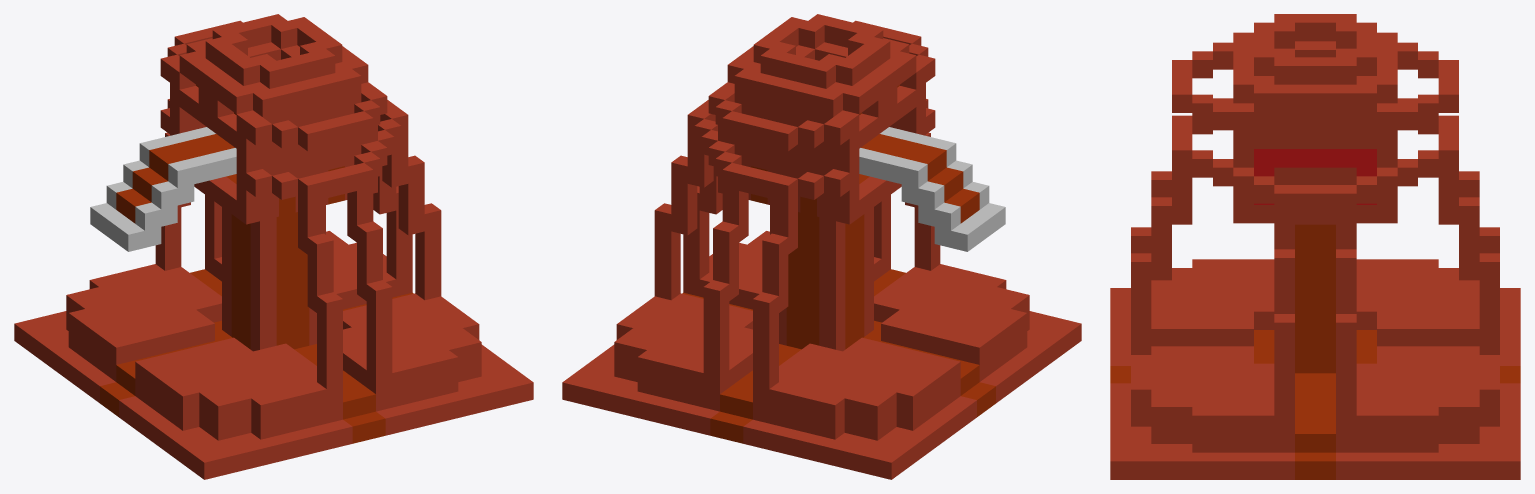
File: wood1_hid.fbx
3 views of the same model, side by side, from view 1: azimuth 30°, elevation 25°; view 2: azimuth 150°, elevation 25°; view 3: azimuth 270°, elevation 25° (orthographic). The views are drawn at different scales.
Parts seen in each view (by area): view 1: wood1_hid; view 2: wood1_hid; view 3: wood1_hid.
Part boxes in pixels (box(x1,y1,x2,y2)): wood1_hid: box(14, 14, 533, 479); wood1_hid: box(562, 14, 1081, 479); wood1_hid: box(1110, 14, 1520, 479).
Bounding box in the file's own units: 200 × 190 × 200.
